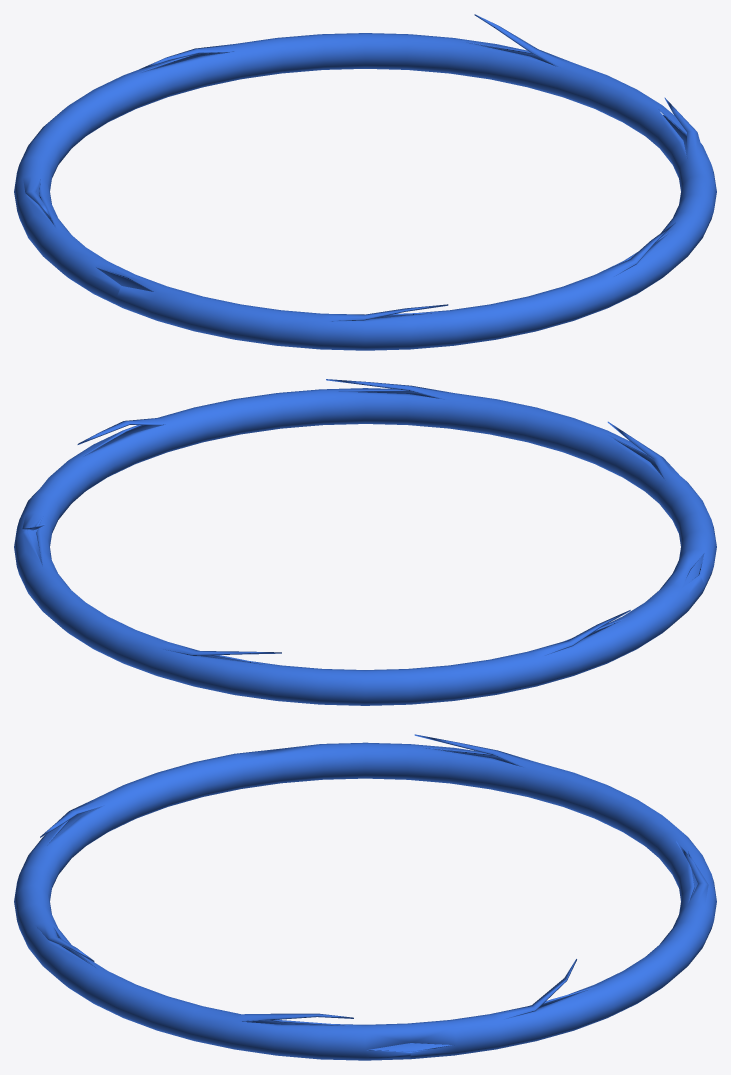
File: cerceau_casse (1).fbx
3 renders of one model, top to bottom at view 1: azimuth 30°, elevation 25°; view 2: azimuth 150°, elevation 25°; view 3: azimuth 270°, elevation 25°, orthographic.
Visible parts, largest first — view 1: Cerceau_Cassé; view 2: Cerceau_Cassé; view 3: Cerceau_Cassé.
Boxes of the visible parts, left/top/right/bottom form: Cerceau_Cassé: left=14, top=14, right=716, bottom=350; Cerceau_Cassé: left=14, top=379, right=716, bottom=705; Cerceau_Cassé: left=14, top=734, right=716, bottom=1060.
Bounding box in the file's own units: 236 × 23.83 × 236.
